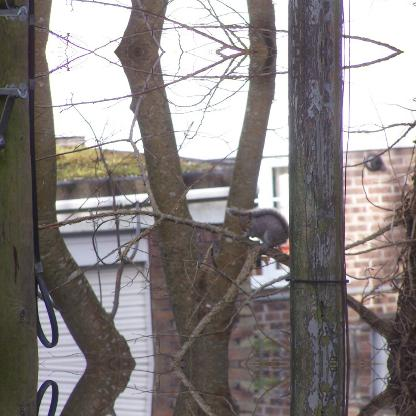Squirrel: (226, 206, 288, 256)
